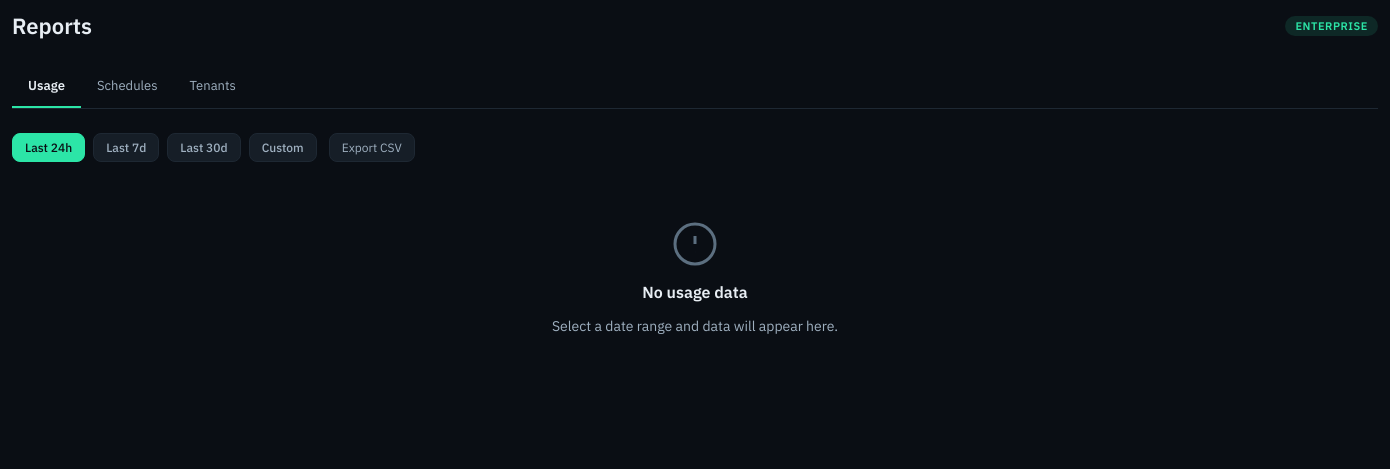
Test case: ReportsPage tenants tab › shows delete confirm dialog when Delete clicked
Step 1. Click the tab "Tenants" → (213, 86), box [174,64,252,108]
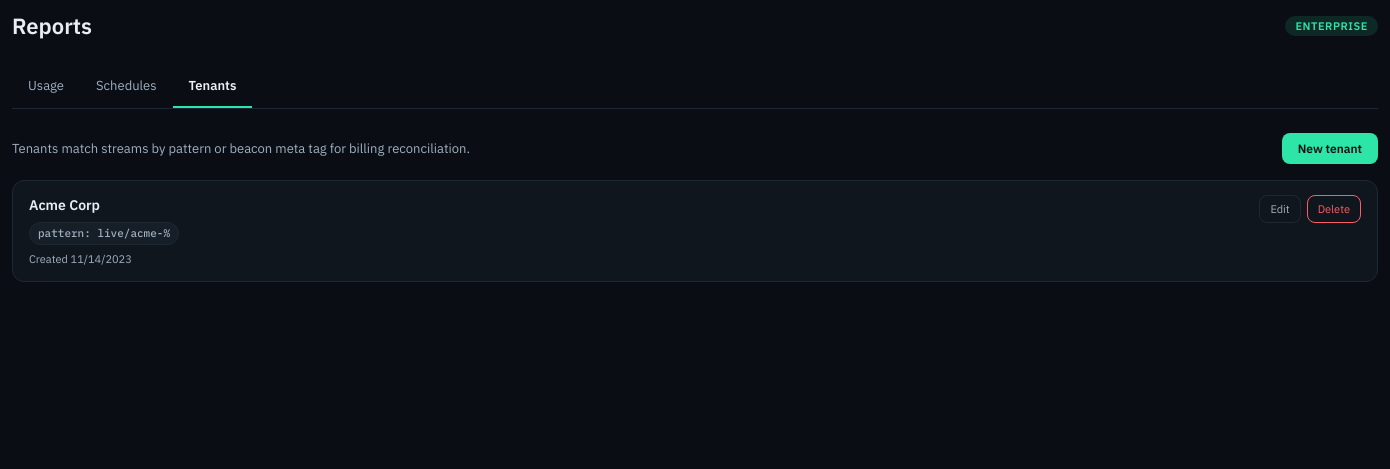
Check: the button with aria-label "delete acme corp" is shown
Step 2. Click the button with aria-label "delete acme corp" → (1334, 209), box [1307,195,1361,223]
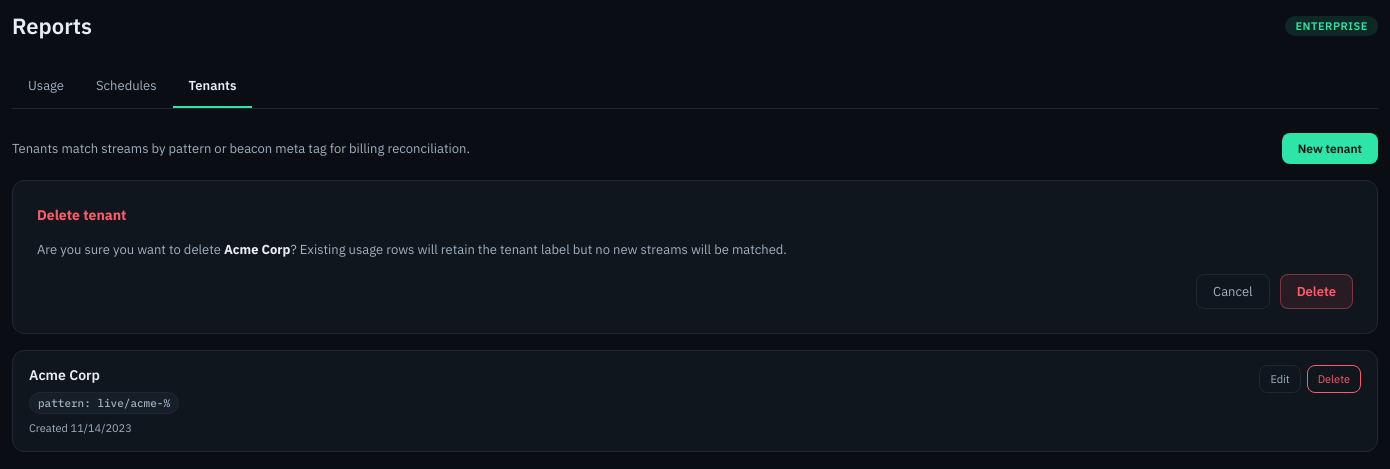
Check: the element with test id "delete-confirm" is shown, box [12,180,1378,334]
